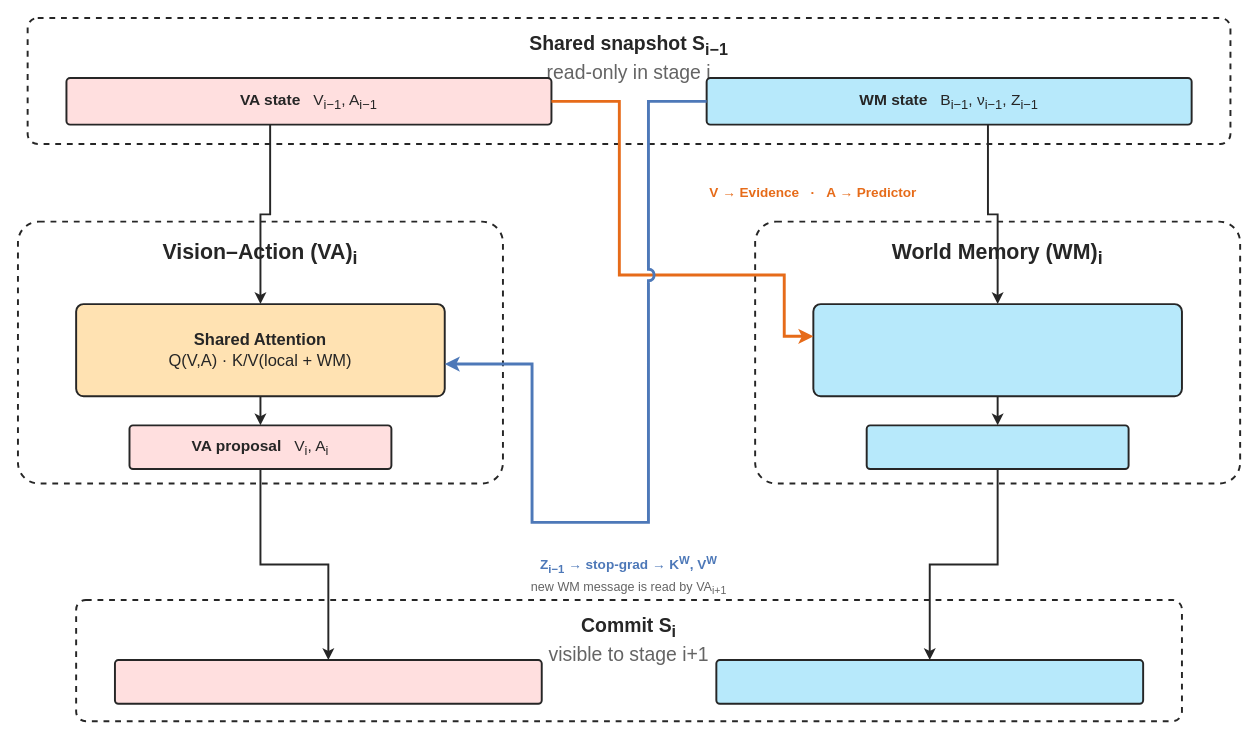
Some shapes in this 1257 by 738 pixel diagram are drawn without their labels. The centre of each missing label's shape, as x and y in pixels:
"Evidence → B̃ i → Predict Z i → B i map-conditioned belief" goes at point 997,350.
"VA writes V i , A i" goes at point 327,681.
"WM proposal B i , ν i , Z i" goes at point 997,446.
"WM writes B i , ν i , Z i" goes at point 929,681.
